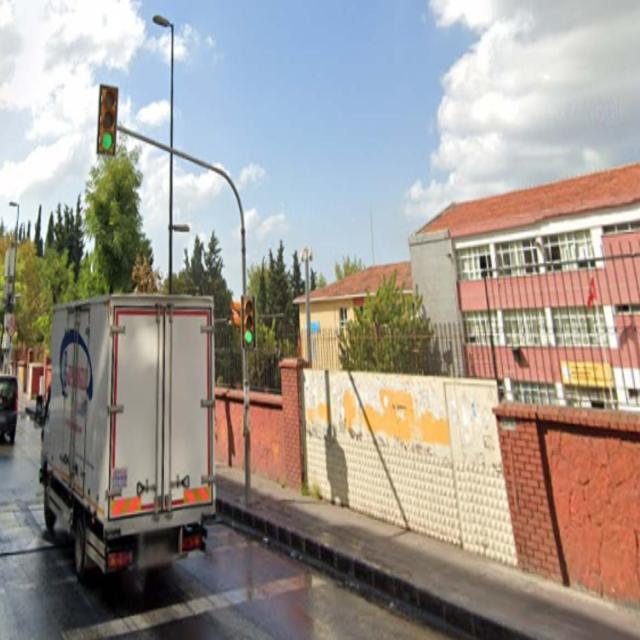yesil: (97, 82, 118, 154), (243, 297, 256, 349)
